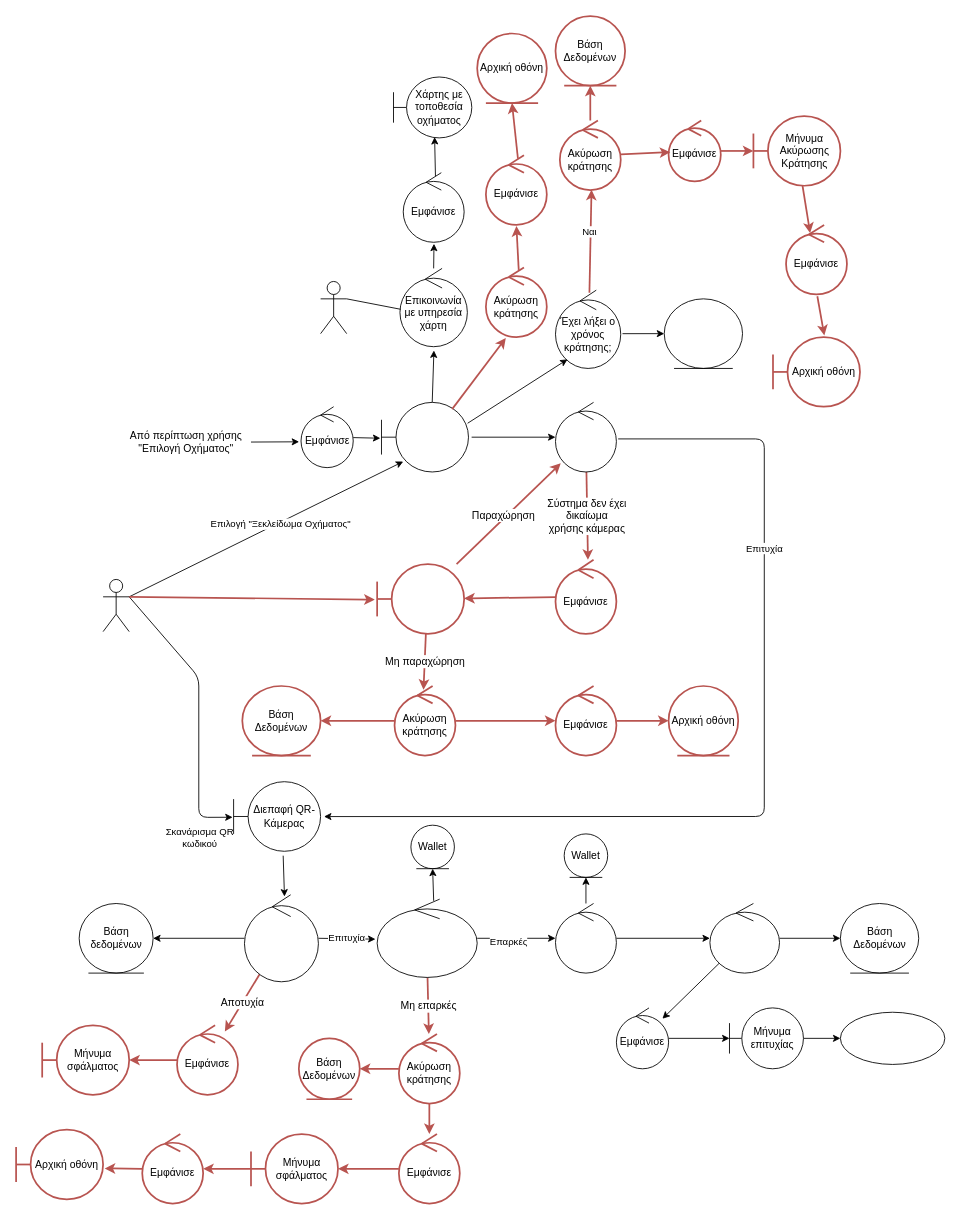
The diagram is 960 pixels wide and 1219 high, and some of its shapes have lost their labels. The shapes that lost their labels are listed below. From the top down, each one's box as (x1, y1, x2, y2) in pixels, then its label:
(320, 281, 347, 334): Υπηρεσία Χάρτη
(663, 298, 743, 368): Timer
(381, 402, 468, 472): Οθόνη "Ξεκλείδωμα Οχήματος"
(555, 402, 616, 472): Άνοιγμα κάμερας
(102, 579, 129, 632): Πελάτης
(376, 563, 465, 634): Επιλογή παραχώρησης δικαιώματος κάμερας
(244, 894, 318, 982): Έλεγχος QR με κρατημένο όχημα
(376, 898, 477, 977): Έλεγχος Απαιτούμενου Ποσού
(555, 903, 616, 973): Αφαίρεση χρηματικού ποσού
(709, 903, 780, 973): Αποθήκευση
(840, 1011, 945, 1064): Ανεφοδιασμός Οχήματος
